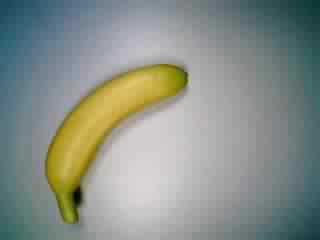banana: (40, 62, 190, 224)
